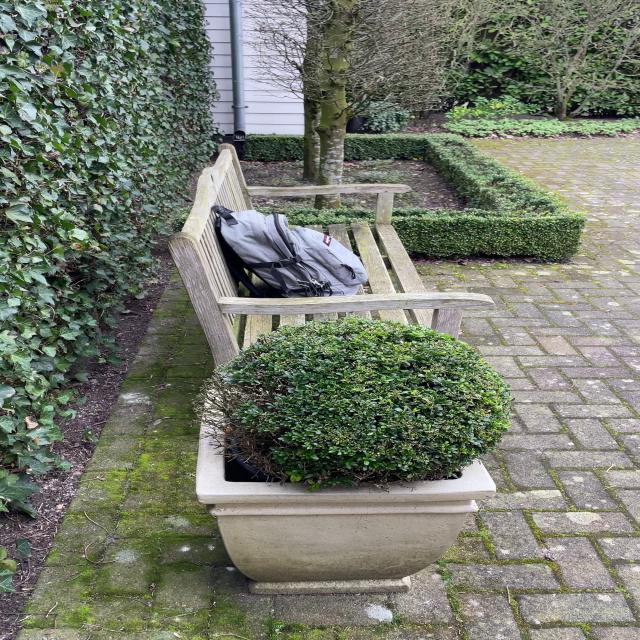backpack: (204, 205, 372, 299)
